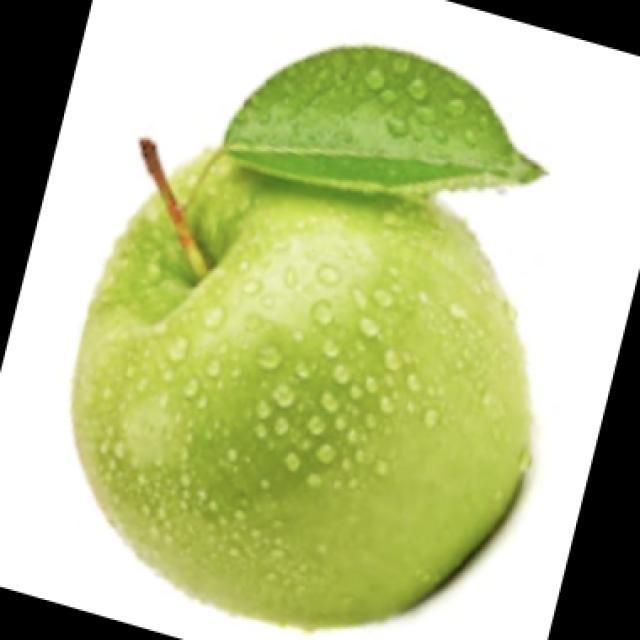Orange: (69, 44, 547, 631)
